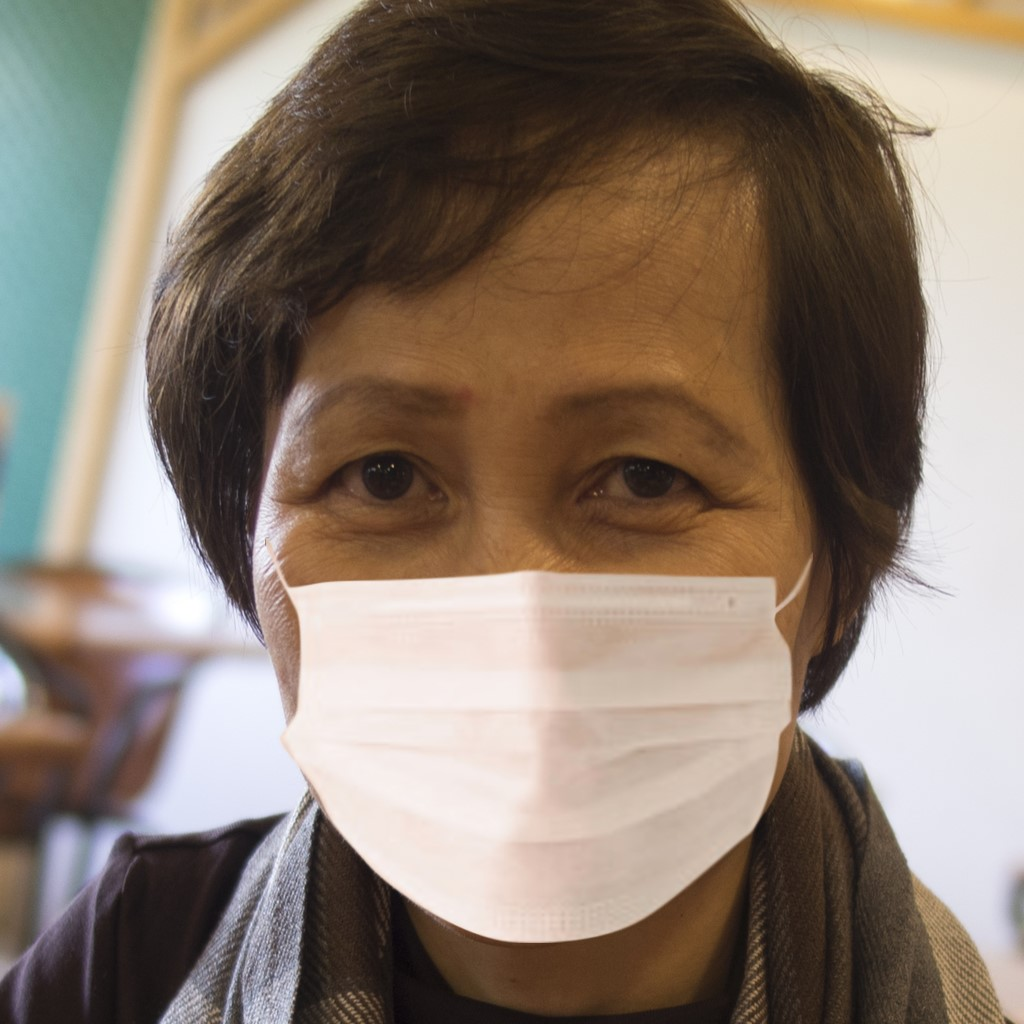con_mascara: (228, 69, 870, 943)
